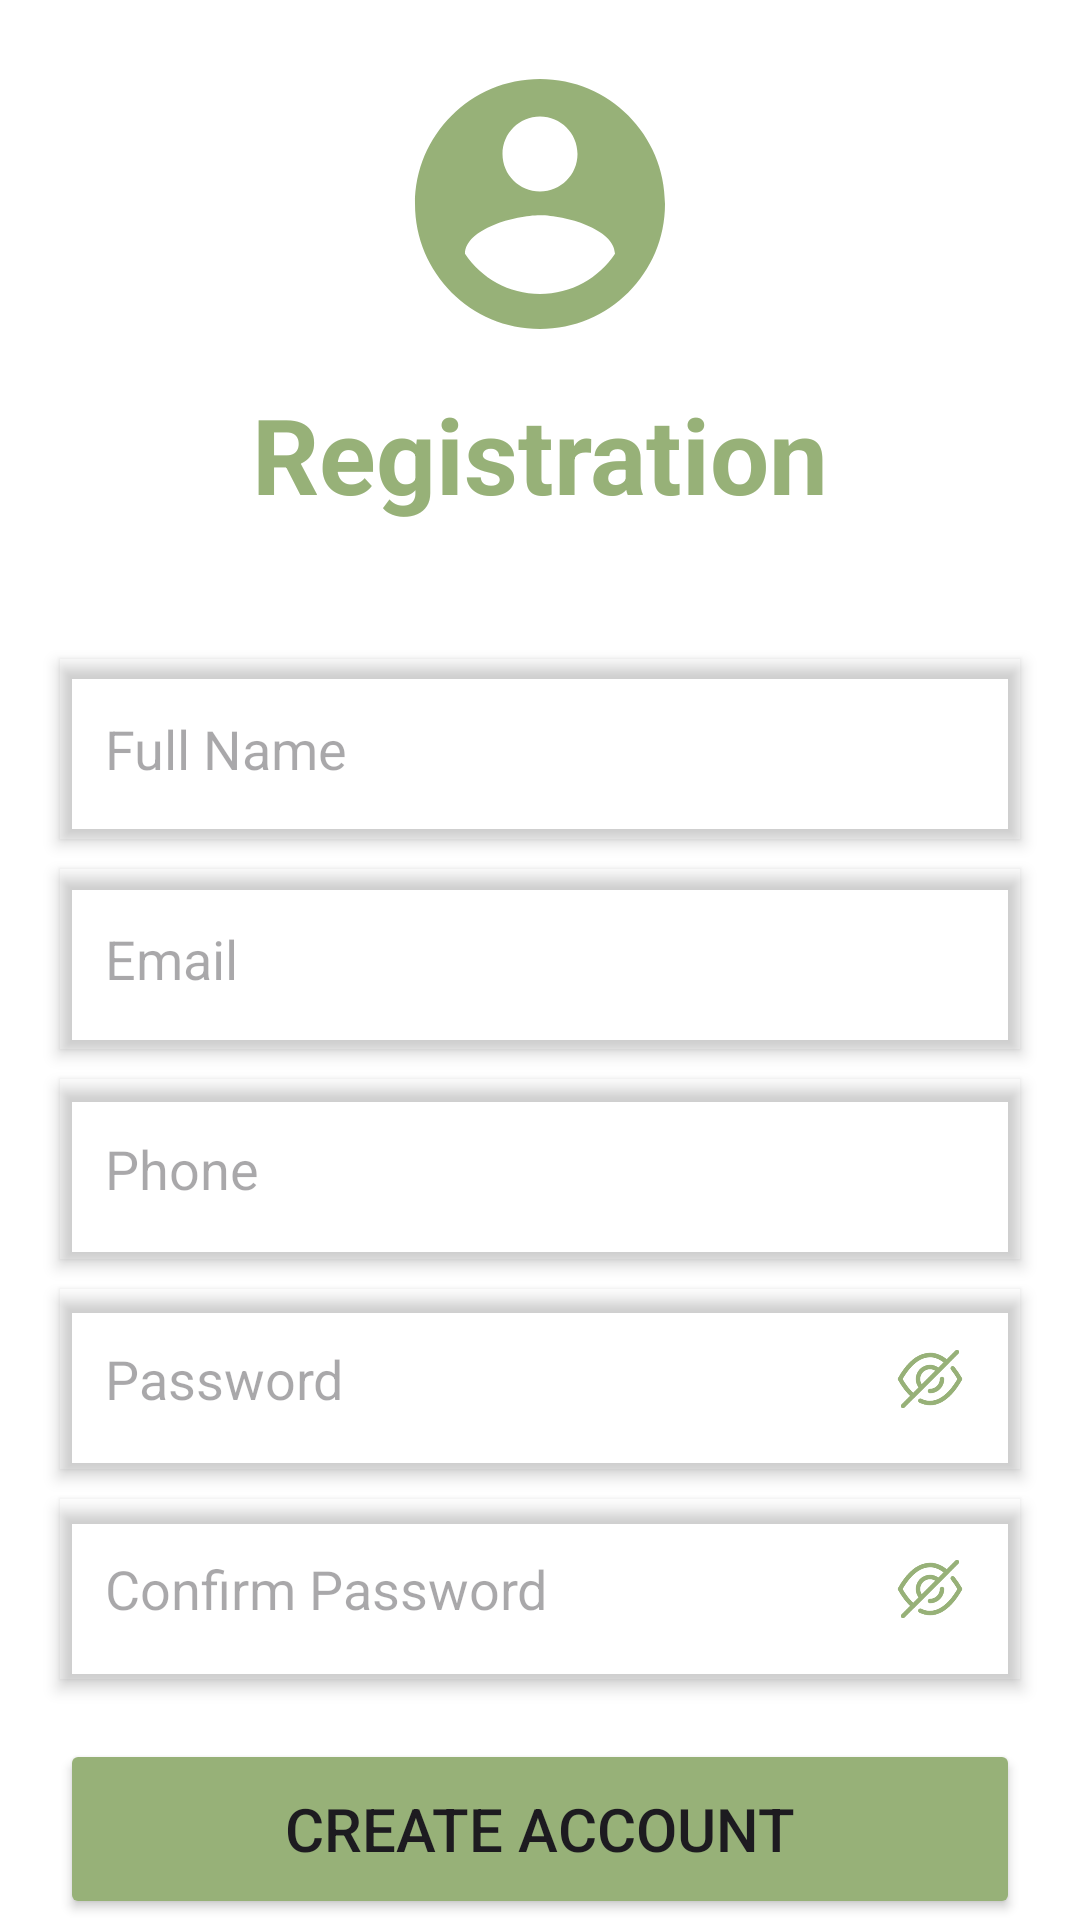

Screen size 1080 × 1920. Icon name, then its center in pixels as point (x, y):
profile: point (540, 204)
